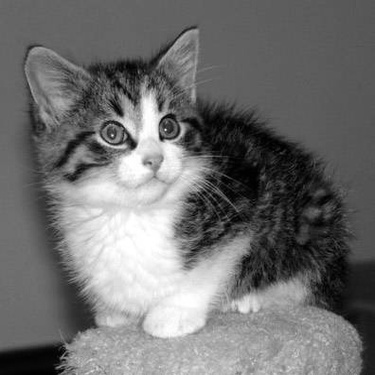cat: (20, 18, 343, 339)
